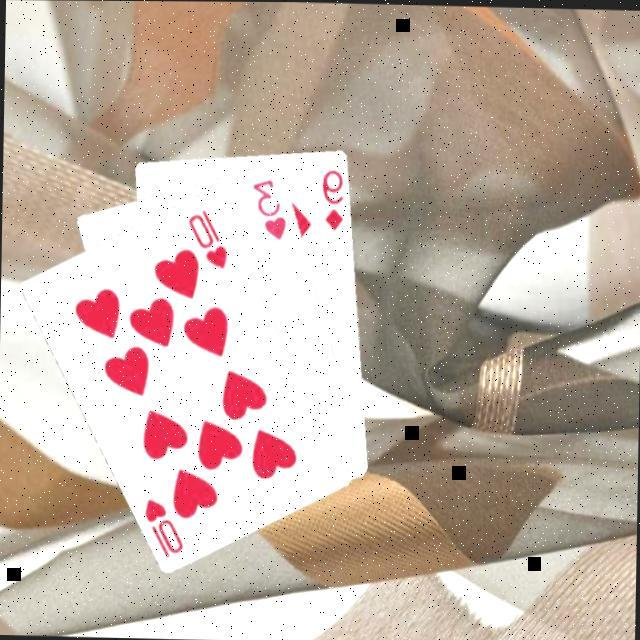10H: (185, 203, 233, 270), (143, 492, 190, 560)
3H: (249, 172, 292, 242)
9D: (320, 163, 348, 230)
